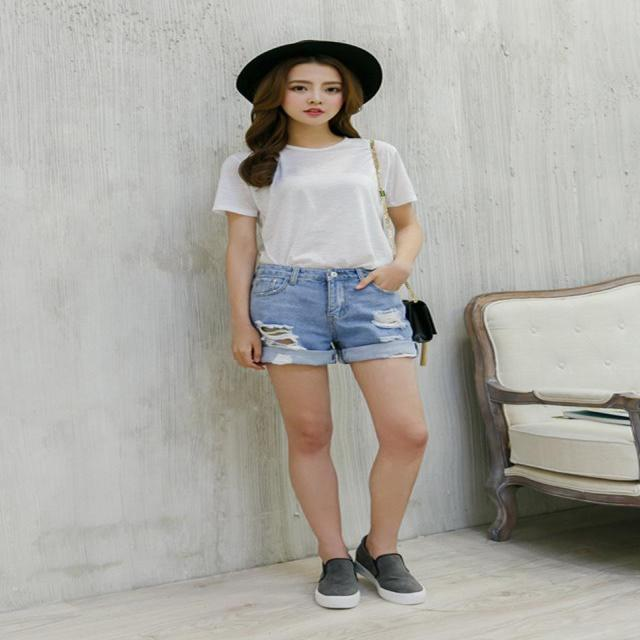short sleeve top: (211, 137, 419, 270)
shorts: (251, 265, 418, 363)
